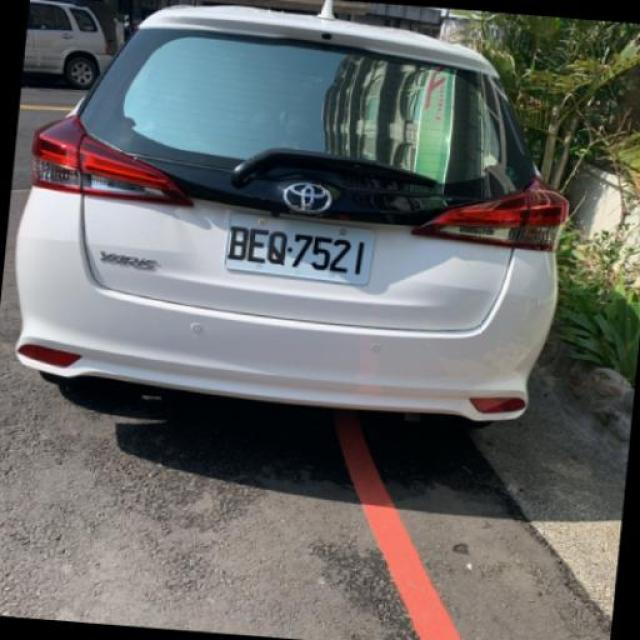illegalparking: (15, 28, 612, 500)
